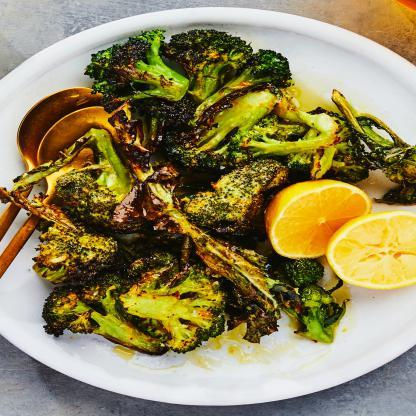broccoli: (0, 30, 416, 354)
